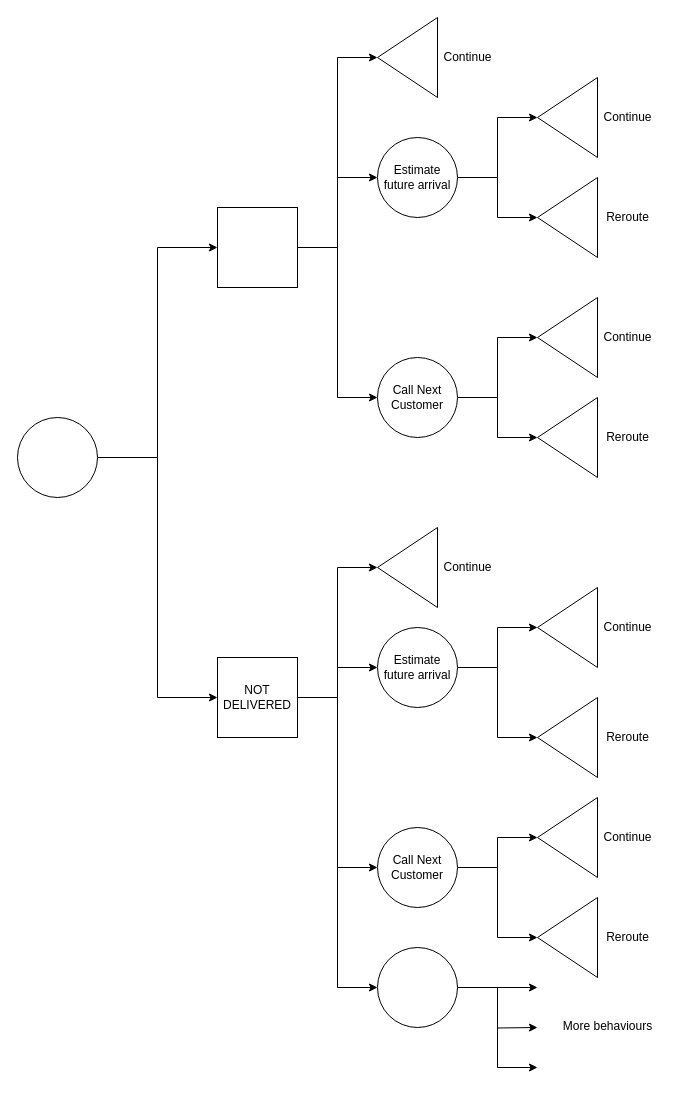
The diagram is 675 pixels wide and 1093 high, and some of its shapes have lost their labels. The shapes that lost their labels are listed below. From the top down, each one's centre as x and y in pixels, then its label:
At [257,247]: "DELIVERED".
At [57,457]: "ARRIVE AT LOCATION".
At [417,987]: "Wait".
